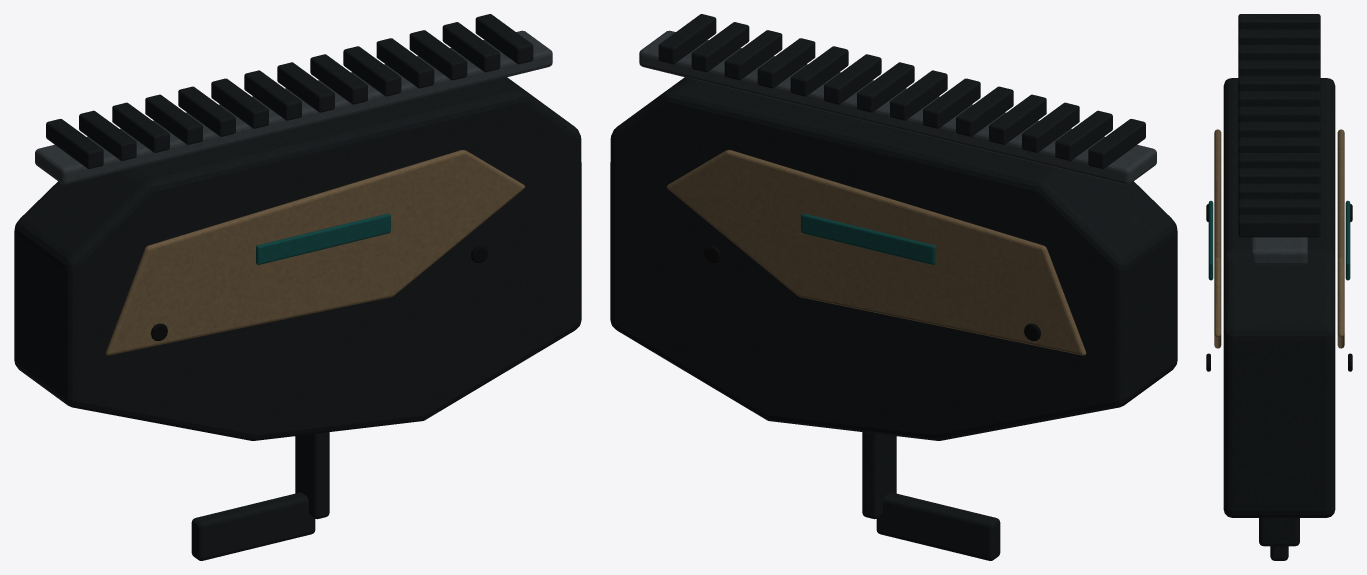
File: wisp02.core.glb
The picture shows the model from 3 angles, left to right: view 1: azimuth 30°, elevation 25°; view 2: azimuth 150°, elevation 25°; view 3: azimuth 270°, elevation 25°; orthographic projection. The views are drawn at different scales.
Visible parts, largest first — view 1: VIS_wisp02_core; view 2: VIS_wisp02_core; view 3: VIS_wisp02_core.
Boxes of the visible parts, x1,y1,x2,y2 form: VIS_wisp02_core: (14, 14, 581, 560); VIS_wisp02_core: (610, 14, 1177, 560); VIS_wisp02_core: (1206, 14, 1352, 560).
Bounding box in the file's own units: 0.25 × 0.21 × 0.064.
Materials: 5 (5 with a texture image).
